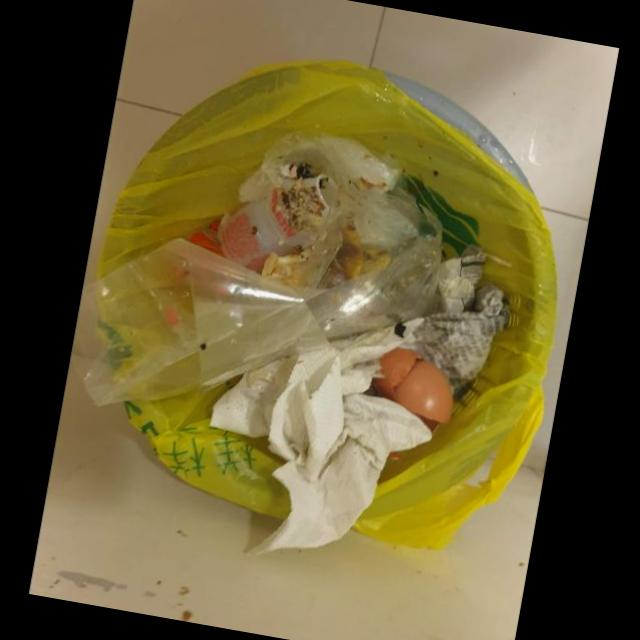giay: (207, 318, 432, 557)
tui_ni_long: (70, 204, 443, 405)
vo_trung: (372, 347, 453, 432)
